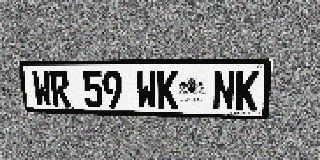5: (82, 71, 104, 108)
9: (102, 71, 123, 108)
K: (235, 71, 260, 111), (157, 71, 178, 109)
N: (212, 71, 236, 111)
R: (49, 71, 71, 107)
W: (136, 71, 157, 109), (31, 71, 53, 106)
